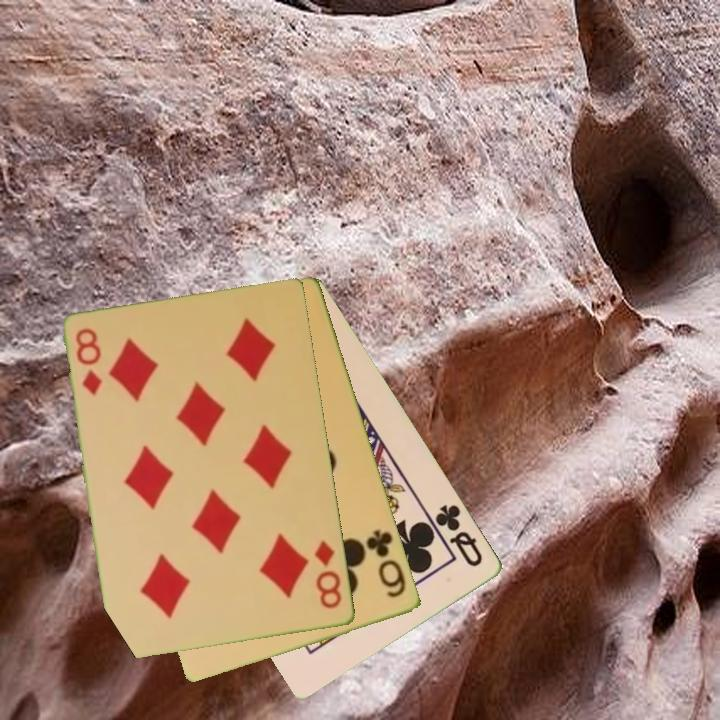6c: (363, 526, 410, 601)
8d: (311, 536, 345, 612), (72, 325, 106, 399)
Qc: (432, 500, 487, 570)
